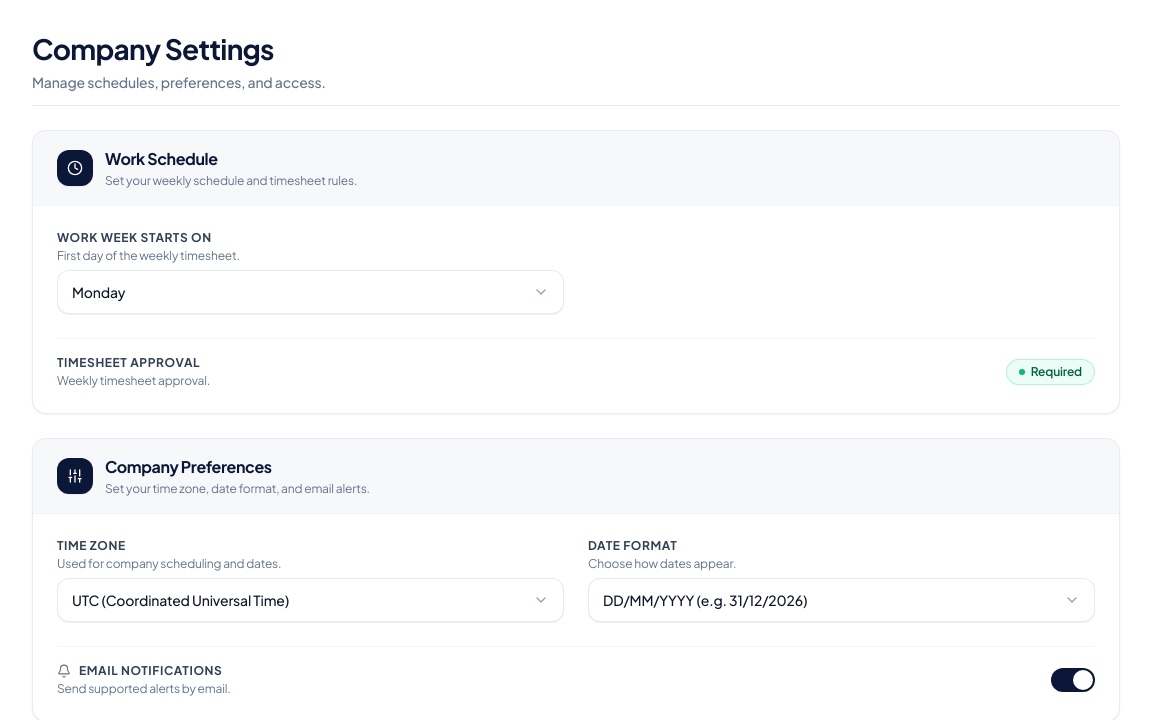
Test: OrganizationSettings - Company Settings Page › reverts changes when Discard button is clicked
The image size is (1152, 720).
Click the switch named "toggle email notifications": (1073, 680) 1051,668 -> 1095,692
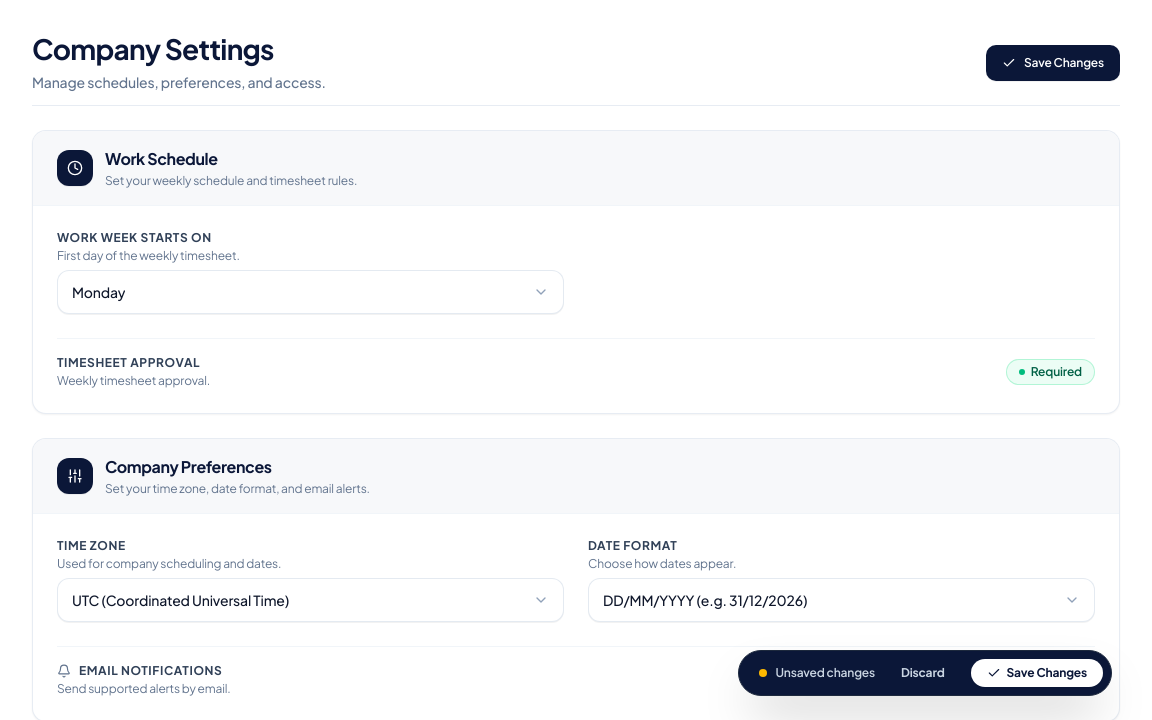
Result: the switch named "toggle email notifications" is not checked at 1051,668 -> 1095,692
Click the button "Discard": (923, 673) 887,659 -> 959,687
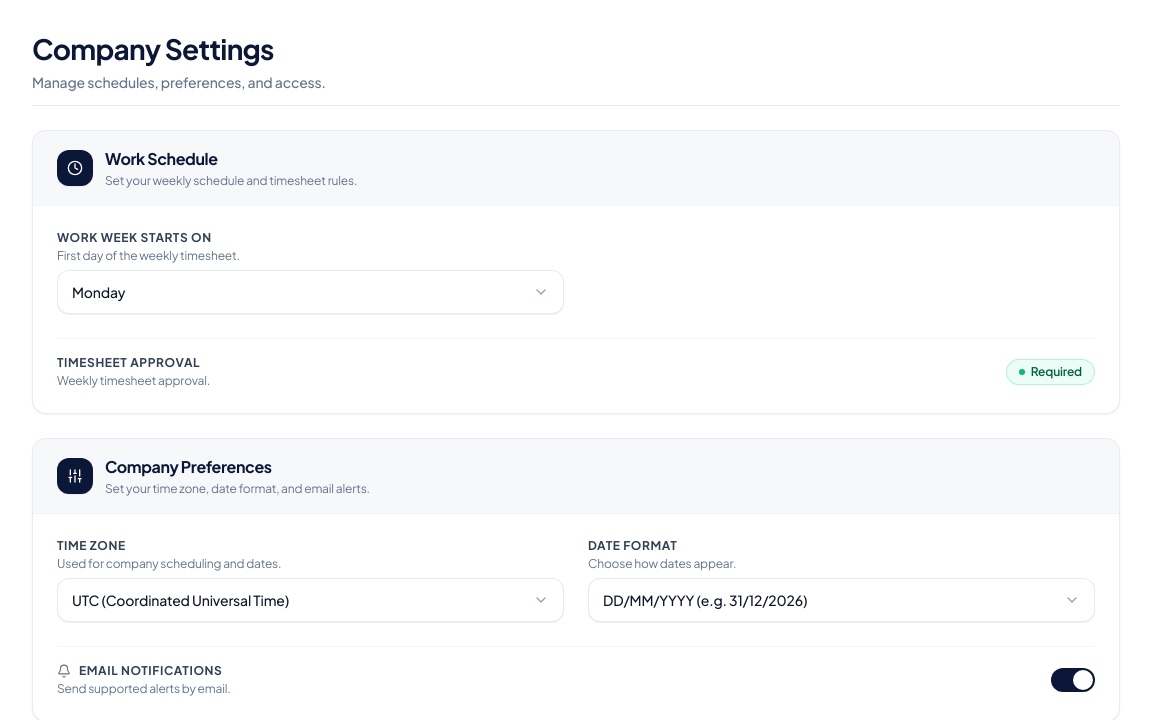
Result: the text "Unsaved changes" is gone
